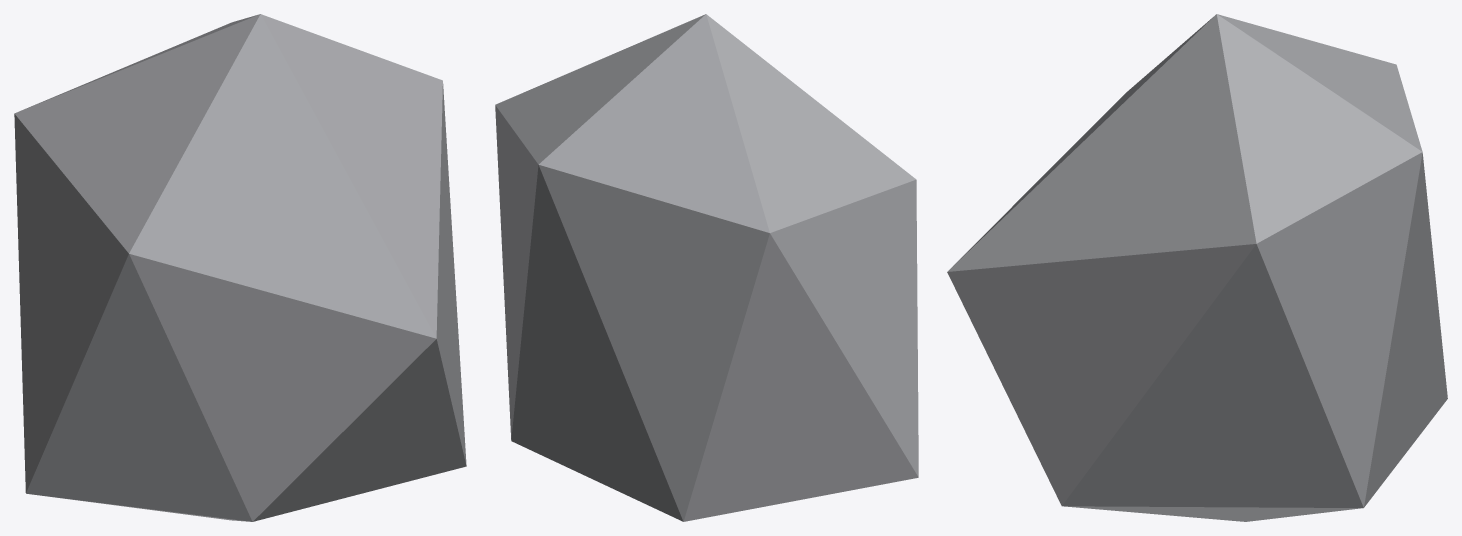
The model's file is nuage6.glb.
The picture shows the model from 3 angles, left to right: view 1: azimuth 30°, elevation 25°; view 2: azimuth 150°, elevation 25°; view 3: azimuth 270°, elevation 25°; orthographic projection. The views are drawn at different scales.
Parts seen in each view (by area): view 1: Icosphère.007; view 2: Icosphère.007; view 3: Icosphère.007.
Boxes of the visible parts, <box> form: Icosphère.007: <box>14,14,466,521</box>; Icosphère.007: <box>495,14,918,521</box>; Icosphère.007: <box>947,14,1447,521</box>.
Bounding box in the file's own units: 3.27 × 3.72 × 3.28.
1 material, 1 textured.
